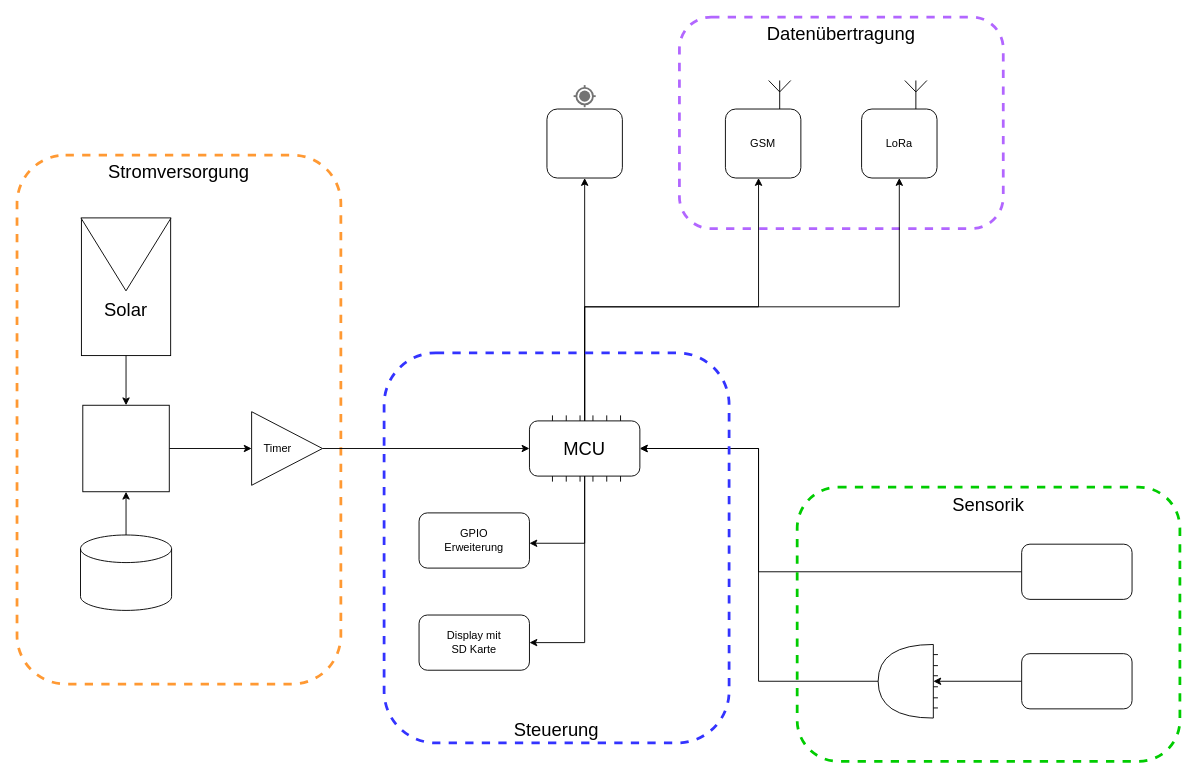
Some shapes in this 1197 by 778 pixel diagram are drawn without their labels. The centre of each missing label's shape, as x and y in pixels:
"ADC" belongs at (905,681).
"Analoge Sensoren" belongs at (1076,681).
"Batterie" belongs at (126,572).
"Digitale Sensoren" belongs at (1076,571).
"GPS" belongs at (584,143).
"MPPT Solar-Kontroller" belongs at (125,448).
